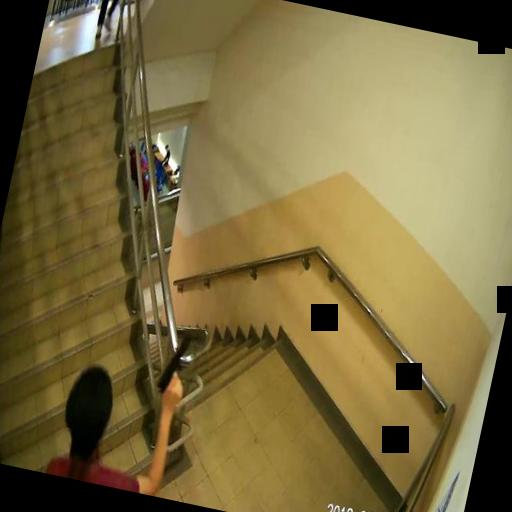Handgun: (154, 328, 194, 400)
